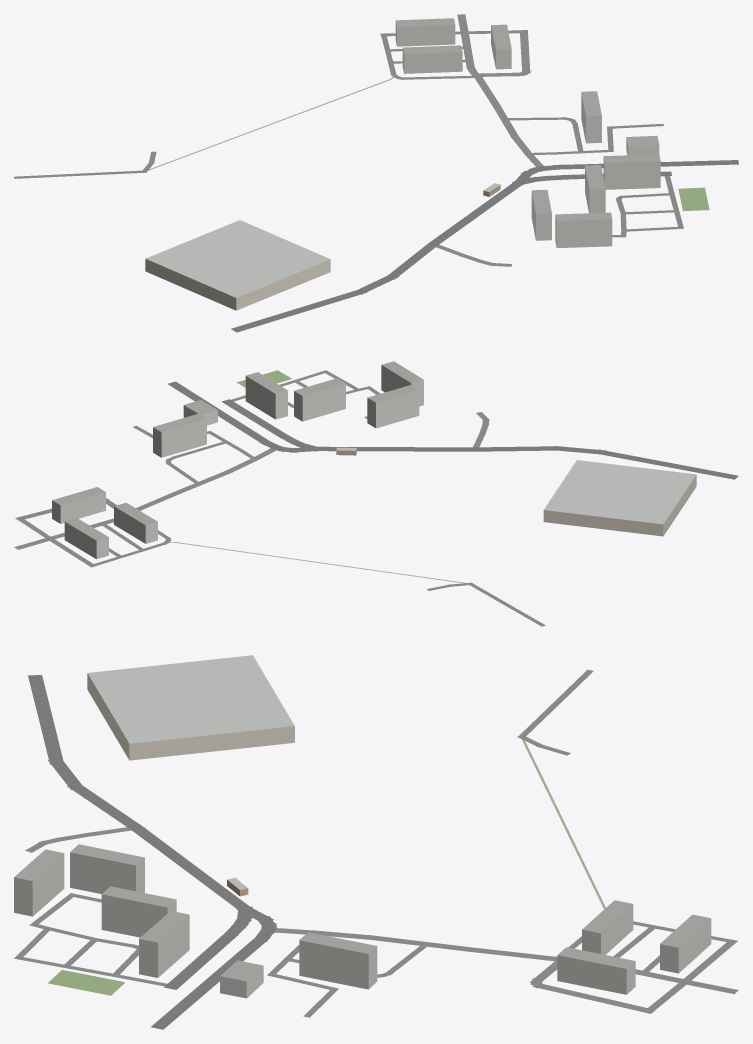
The model's file is bolak_-11_-18.glb.
3 views of the same model, one above another, from view 1: azimuth 30°, elevation 25°; view 2: azimuth 150°, elevation 25°; view 3: azimuth 270°, elevation 25° (orthographic). The views are drawn at different scales.
Visible parts, largest first — view 1: Devor_Panel-col, Tom_Shifer, Yol_Mahalla, Tom_Tekis, Yol_Asfalt, Devor_Suvoq-col, Yer_Maysa; view 2: Devor_Panel-col, Tom_Shifer, Yol_Mahalla, Yol_Asfalt, Tom_Tekis, Devor_Suvoq-col, Yol_Tuproq; view 3: Devor_Panel-col, Tom_Shifer, Yol_Mahalla, Yol_Asfalt, Tom_Tekis, Devor_Suvoq-col, Yer_Maysa, Devor_Dokon-col.
Boxes of the visible parts, left/top/right/bottom form: Devor_Panel-col: left=395, top=21, right=660, bottom=248; Tom_Shifer: left=145, top=183, right=500, bottom=297; Yol_Mahalla: left=14, top=14, right=683, bottom=266; Tom_Tekis: left=395, top=18, right=660, bottom=220; Yol_Asfalt: left=231, top=160, right=738, bottom=332; Devor_Suvoq-col: left=145, top=259, right=330, bottom=310; Yer_Maysa: left=678, top=187, right=709, bottom=211; Devor_Panel-col: left=52, top=365, right=423, bottom=559; Tom_Shifer: left=336, top=447, right=696, bottom=524; Yol_Mahalla: left=14, top=370, right=545, bottom=626; Yol_Asfalt: left=167, top=381, right=738, bottom=479; Tom_Tekis: left=52, top=361, right=423, bottom=540; Devor_Suvoq-col: left=543, top=475, right=696, bottom=536; Yol_Tuproq: left=169, top=542, right=466, bottom=583; Devor_Panel-col: left=14, top=852, right=711, bottom=994; Tom_Shifer: left=87, top=655, right=294, bottom=889; Yol_Mahalla: left=14, top=669, right=738, bottom=1017; Yol_Asfalt: left=28, top=675, right=277, bottom=1029; Tom_Tekis: left=14, top=844, right=710, bottom=981; Devor_Suvoq-col: left=87, top=673, right=294, bottom=760; Yer_Maysa: left=48, top=970, right=124, bottom=995; Devor_Dokon-col: left=220, top=966, right=263, bottom=998.
Size of the model in its own units: 478 by 22 by 407.
